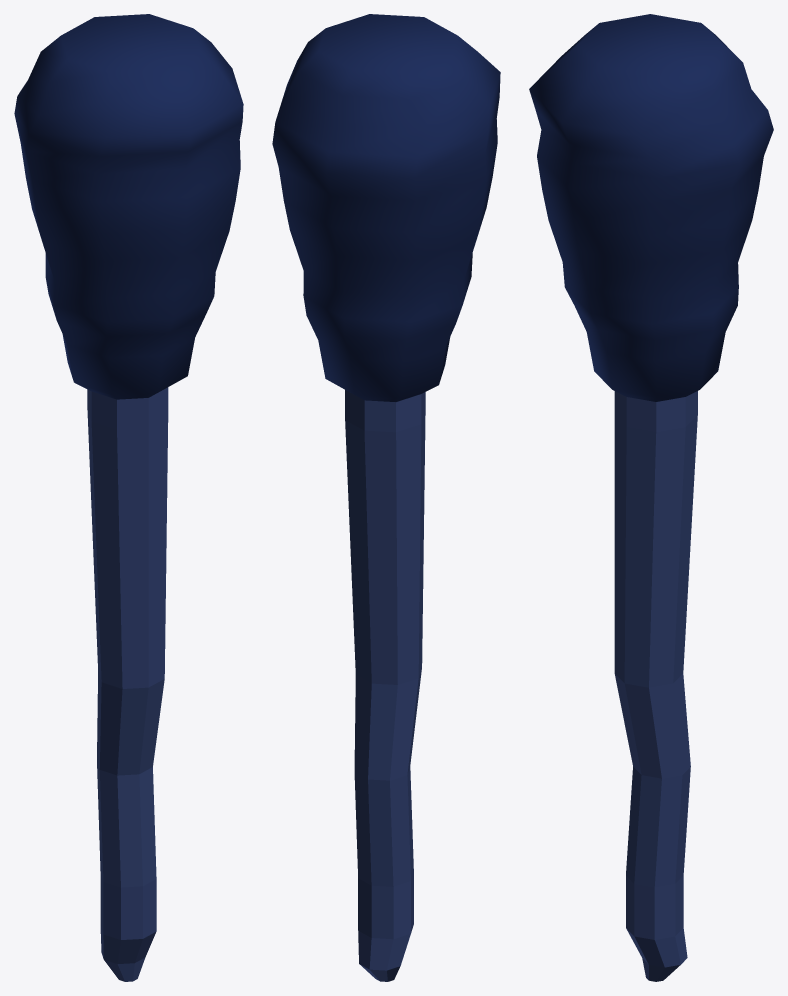
File: Torch.fbx
3 views of the same model, side by side, from view 1: azimuth 30°, elevation 25°; view 2: azimuth 150°, elevation 25°; view 3: azimuth 270°, elevation 25° (orthographic).
Parts seen in each view (by area): view 1: Cylinder; view 2: Cylinder; view 3: Cylinder.
Part boxes in pixels (bbox=[...]): Cylinder: bbox=[14, 14, 243, 981]; Cylinder: bbox=[272, 14, 500, 981]; Cylinder: bbox=[529, 14, 773, 981].
Size of the model in its own units: 0.3528 by 0.3715 by 1.56.
